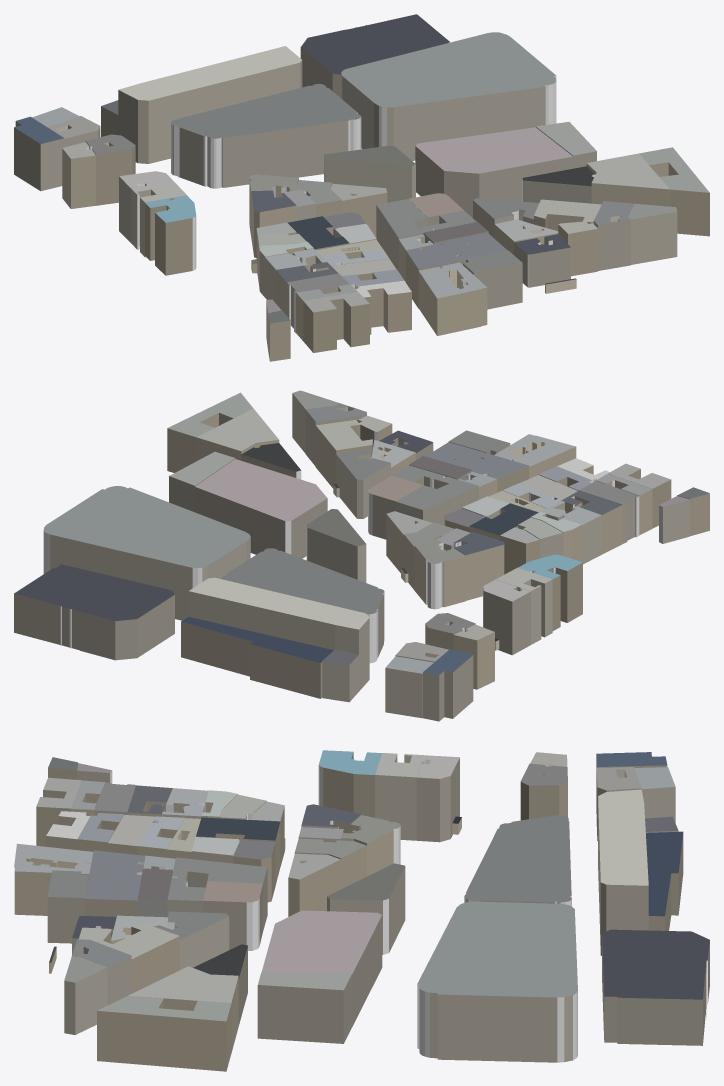
3 renders of one model, top to bottom at view 1: azimuth 30°, elevation 25°; view 2: azimuth 150°, elevation 25°; view 3: azimuth 270°, elevation 25°, orthographic. The views are drawn at different scales.
Visible parts, largest first — view 1: tuile; view 2: tuile; view 3: tuile.
Boxes of the visible parts, left/top/right/bottom form: tuile: left=14, top=14, right=709, bottom=361; tuile: left=14, top=390, right=709, bottom=721; tuile: left=14, top=750, right=709, bottom=1071.
Size of the model in its own units: 261 by 33.73 by 284.
